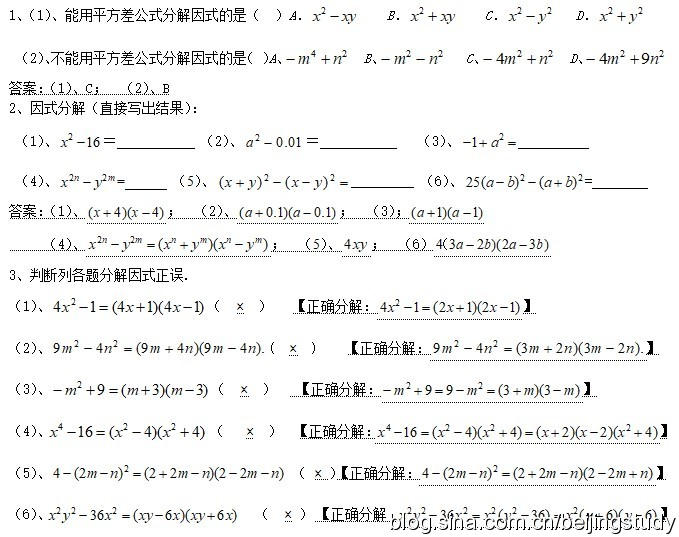square: (514, 48, 526, 60), (167, 421, 179, 433), (622, 421, 633, 433), (497, 131, 508, 142), (514, 4, 523, 17), (252, 131, 262, 142), (71, 338, 82, 348), (319, 5, 328, 17), (339, 47, 348, 59), (77, 379, 85, 392), (657, 48, 667, 58), (327, 172, 337, 182), (576, 171, 585, 182), (637, 6, 646, 16), (490, 338, 499, 348), (109, 338, 119, 347), (492, 462, 498, 477), (548, 46, 554, 60), (405, 48, 411, 62), (517, 172, 529, 179), (487, 423, 496, 432), (618, 47, 625, 58), (122, 464, 130, 473), (120, 422, 129, 430), (453, 337, 459, 348), (262, 173, 269, 182), (608, 5, 613, 17), (394, 297, 400, 307), (111, 504, 117, 514), (443, 423, 450, 431), (418, 5, 423, 16), (438, 48, 443, 58), (55, 507, 62, 514), (547, 7, 552, 15)
